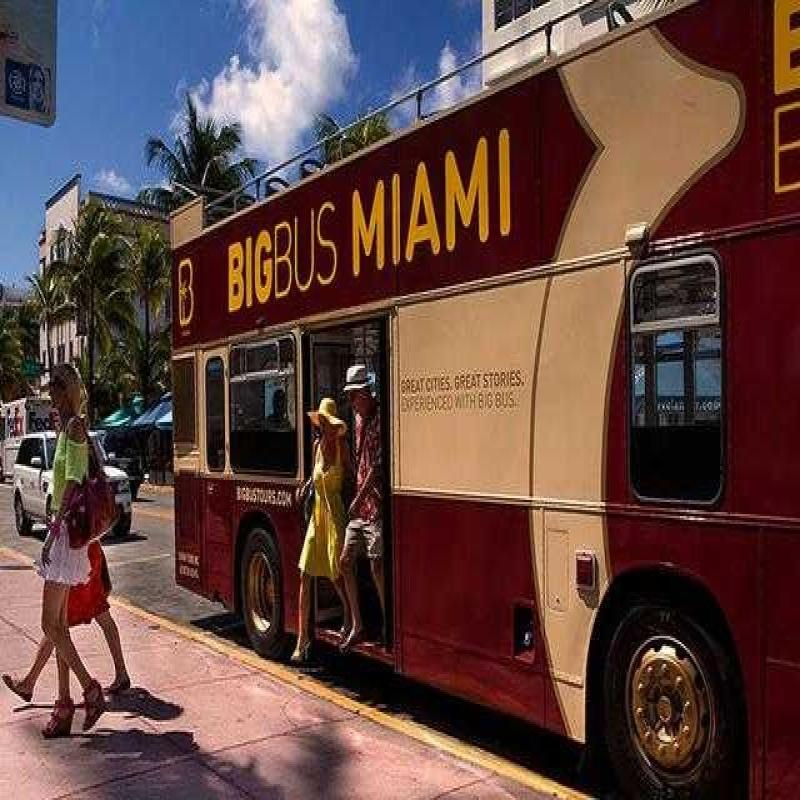bus: (161, 76, 800, 800)
